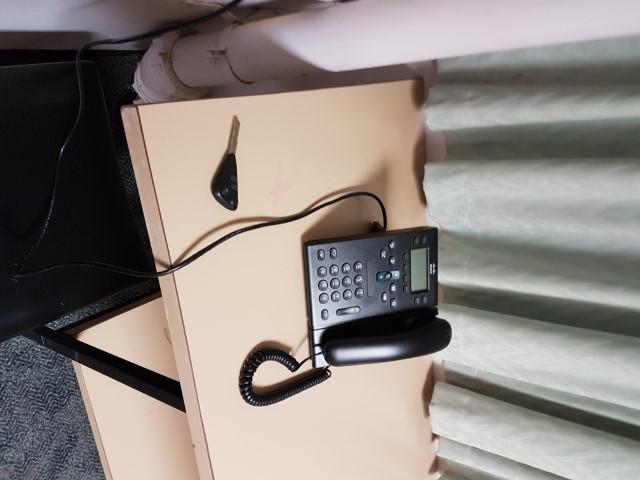key: (214, 117, 241, 210)
